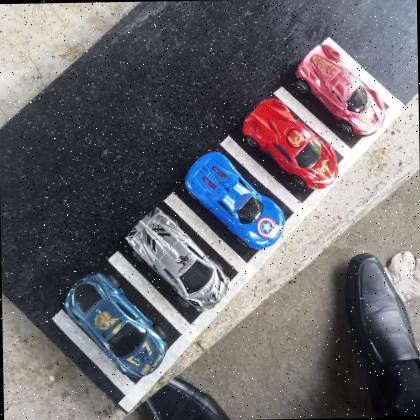Car: (124, 205, 229, 312), (63, 272, 166, 380), (182, 149, 286, 249), (293, 42, 387, 138), (242, 97, 338, 190)
